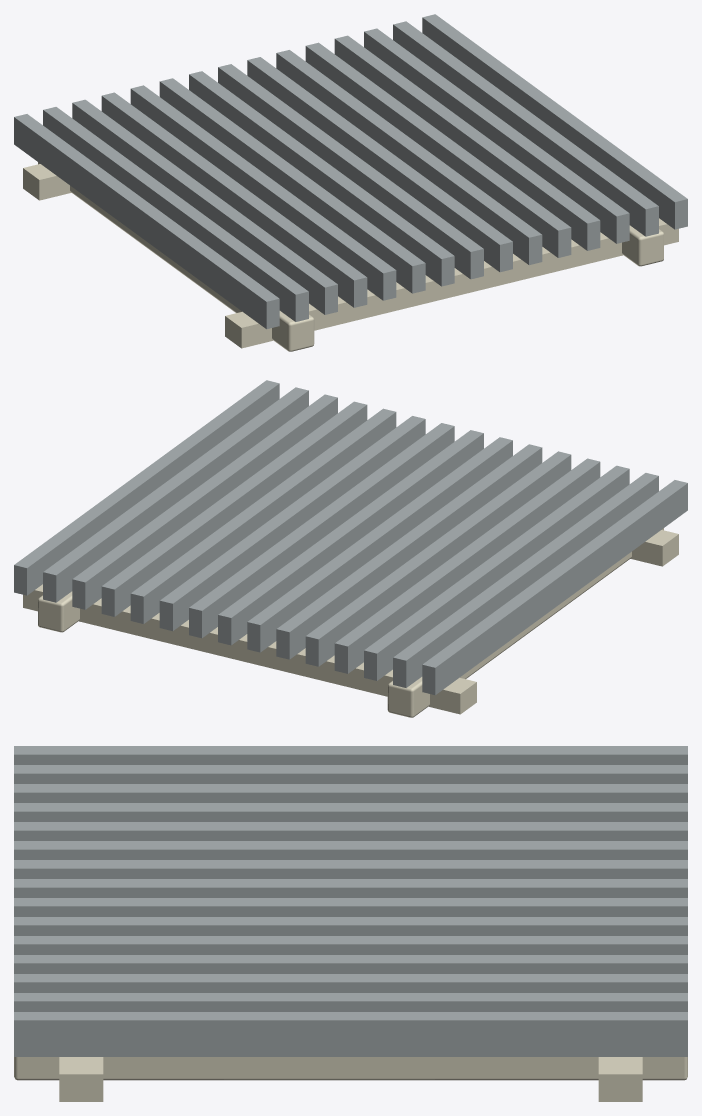
Rendered from bunker-shelter-construction-shelter-grated-floor-557eb746__23295.glb.
The picture shows the model from 3 angles, top to bottom: view 1: azimuth 30°, elevation 25°; view 2: azimuth 150°, elevation 25°; view 3: azimuth 270°, elevation 25°; orthographic projection. The views are drawn at different scales.
Parts seen in each view (by area): view 1: shelter-grated-floor; view 2: shelter-grated-floor; view 3: shelter-grated-floor.
Part boxes in pixels (x1,y1,x2,y2): shelter-grated-floor: (14, 14, 687, 351); shelter-grated-floor: (14, 380, 687, 717); shelter-grated-floor: (14, 746, 687, 1101).
Bounding box in the file's own units: 2 × 0.2499 × 2.
